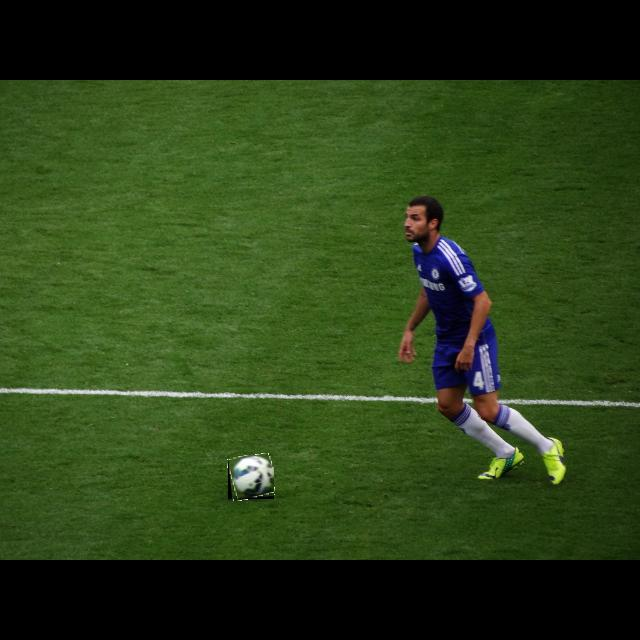Football: (228, 455, 274, 499)
